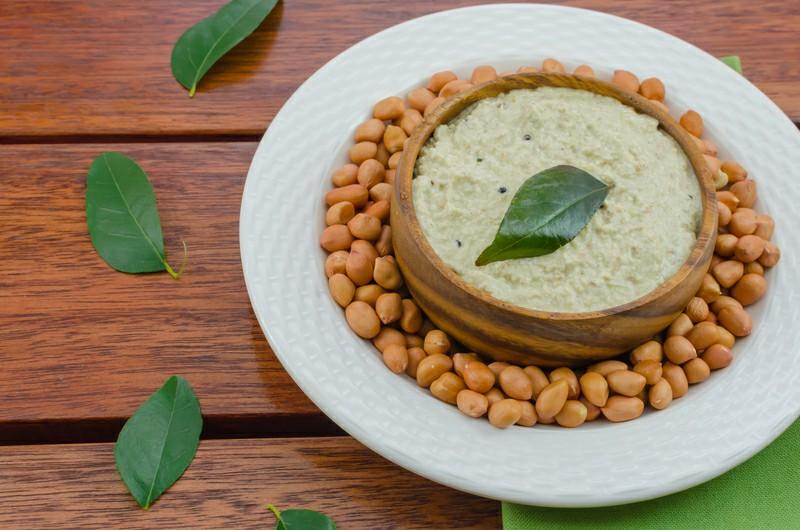CoconutChutney: (411, 87, 700, 313)
